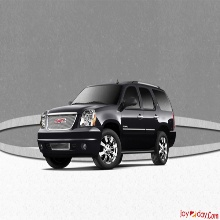no damage: (36, 80, 177, 168)
